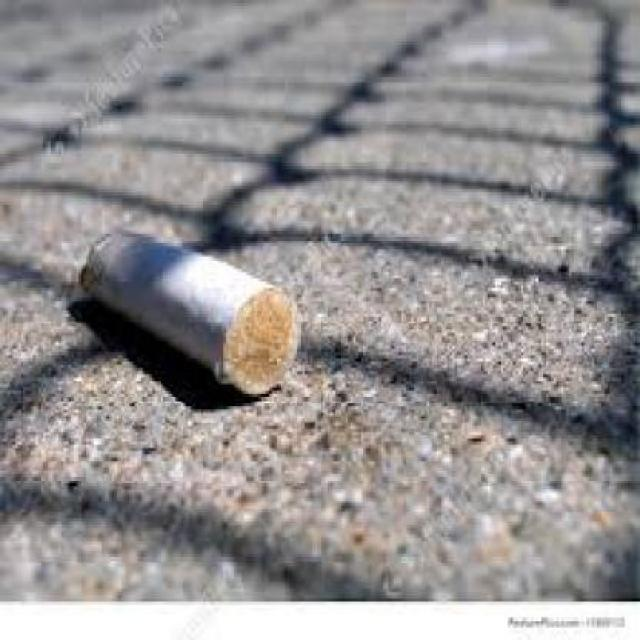cigarette: (61, 178, 307, 436)
